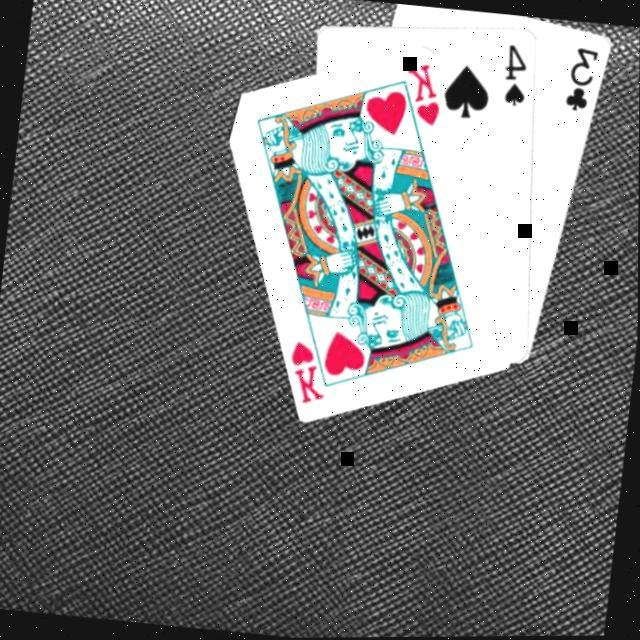3C: (559, 42, 601, 115)
4S: (495, 38, 532, 109)
KH: (281, 334, 332, 406), (396, 57, 445, 129)
